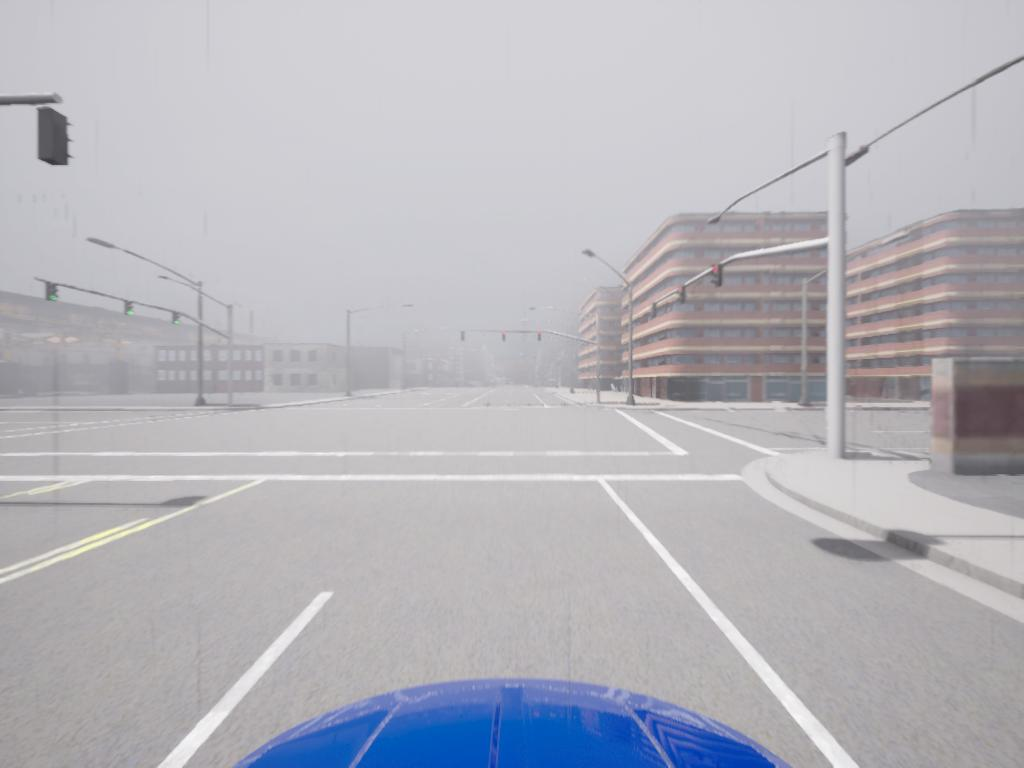traffic_light: (40, 113, 72, 169), (711, 265, 725, 292), (676, 287, 687, 310), (48, 283, 60, 303), (172, 309, 181, 329), (652, 303, 659, 322), (128, 307, 137, 319), (536, 331, 545, 343), (461, 330, 469, 343), (503, 333, 510, 345)
